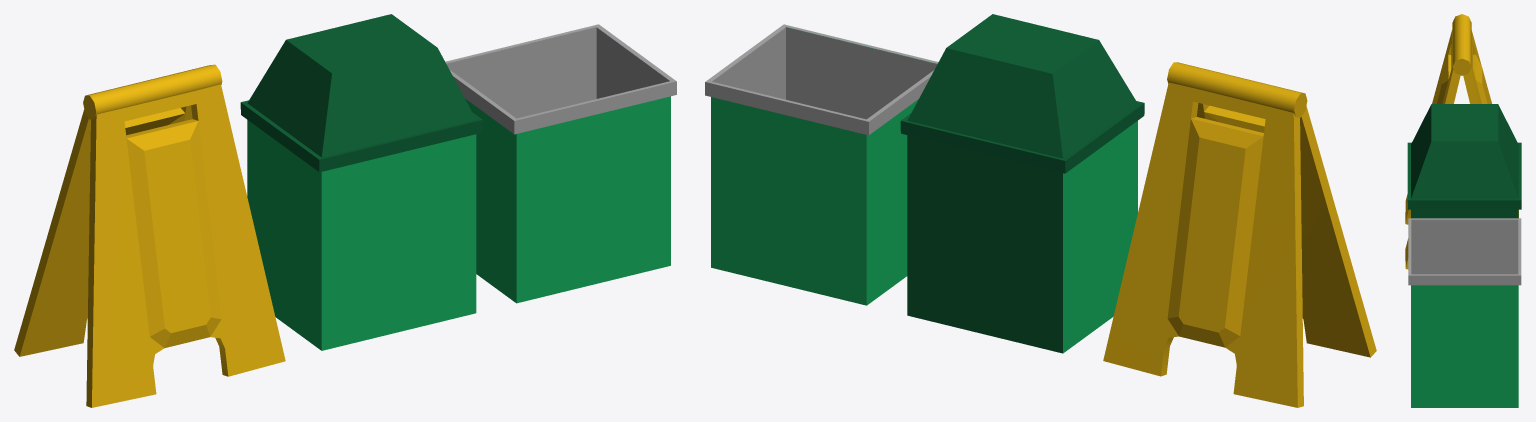
Rendered from Props_A.fbx.
The picture shows the model from 3 angles, left to right: view 1: azimuth 30°, elevation 25°; view 2: azimuth 150°, elevation 25°; view 3: azimuth 270°, elevation 25°; orthographic projection. The views are drawn at different scales.
Visible parts, largest first — view 1: Box001, base, base 2, cover; view 2: Box001, base, base 2, cover; view 3: base 2, base, cover, Box001.
Boxes of the visible parts, box(x1,y1,x2,y2) form: Box001: box(14, 64, 285, 407); base: box(240, 40, 482, 350); base 2: box(445, 24, 676, 303); cover: box(286, 14, 443, 140); Box001: box(1103, 62, 1376, 407); base: box(900, 40, 1144, 353); base 2: box(705, 24, 938, 305); cover: box(939, 14, 1098, 141); base 2: box(1408, 218, 1521, 407); base: box(1407, 105, 1521, 218); cover: box(1413, 104, 1516, 181); Box001: box(1405, 14, 1518, 269).
Size of the model in its own units: 44.82 by 20.39 by 10.66.
